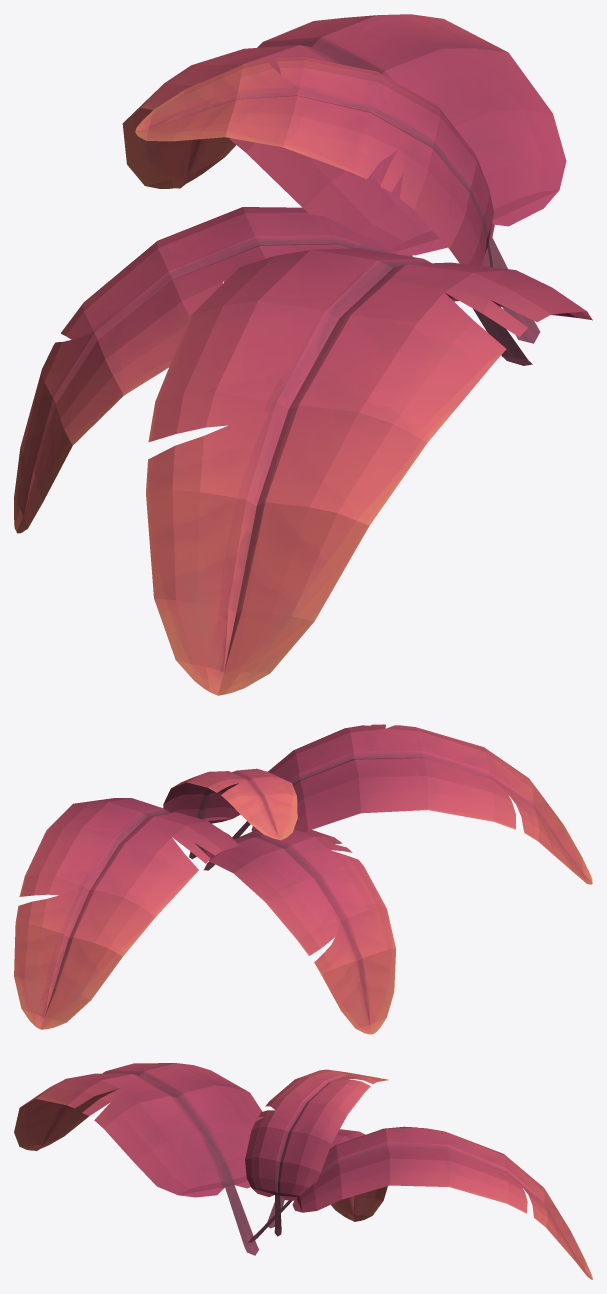
The model's file is plantA.glb.
3 views of the same model, one above another, from view 1: azimuth 30°, elevation 25°; view 2: azimuth 150°, elevation 25°; view 3: azimuth 270°, elevation 25° (orthographic). The views are drawn at different scales.
Parts seen in each view (by area): view 1: plantA; view 2: plantA; view 3: plantA.
Boxes of the visible parts, left/top/right/bottom form: plantA: left=14, top=14, right=592, bottom=695; plantA: left=14, top=724, right=592, bottom=1034; plantA: left=14, top=1063, right=592, bottom=1279.
Bounding box in the file's own units: 0.7759 × 0.4615 × 1.16.
Materials: 1 (1 with a texture image).
